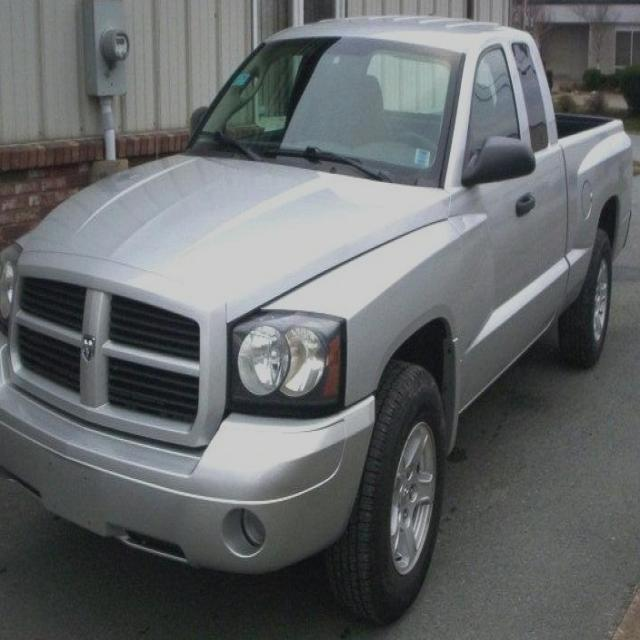CMT: (2, 11, 630, 620)
